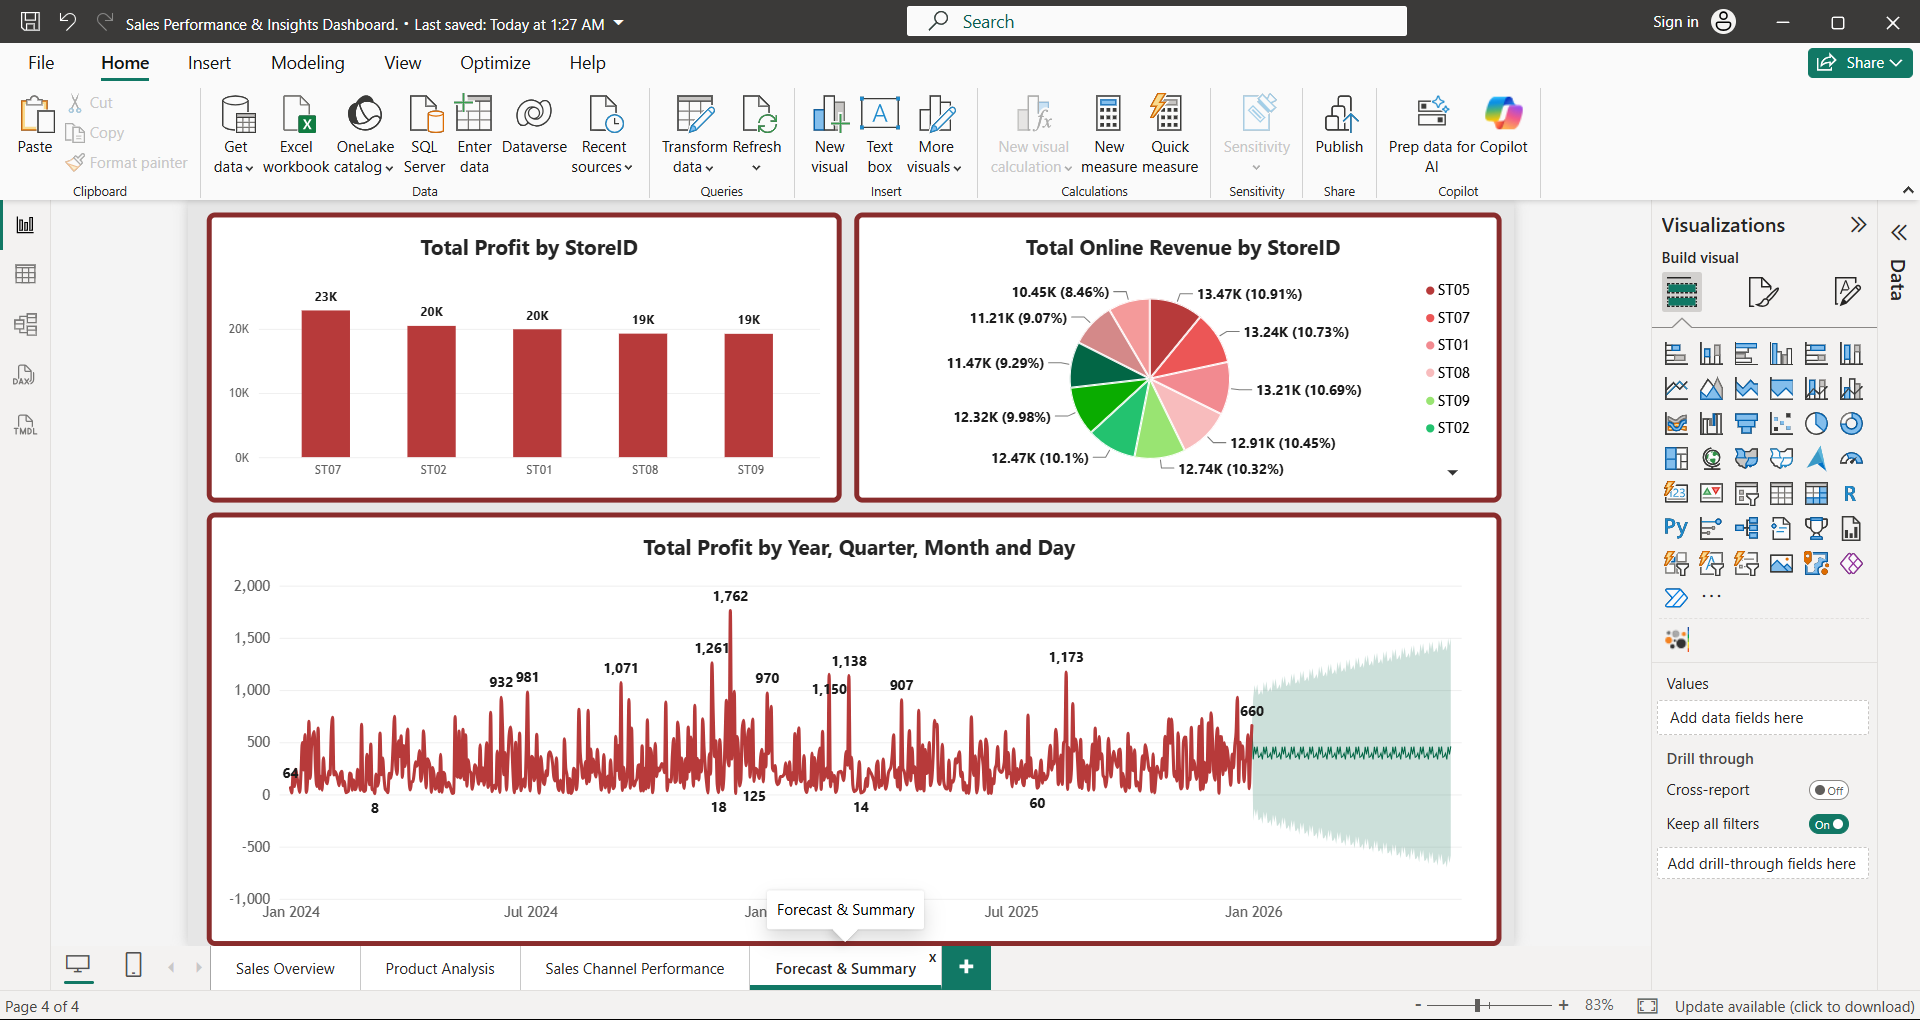

This screenshot's page, from the dashboard's own definition file:
{"tool":"powerbi","page":{"name":"Forecast & Summary","canvas":[1280,720],"ordinal":3},"visuals":[{"type":"clusteredColumnChart","fields":{"Category":["Stores.StoreID"],"Y":["Sales.Total Profit"]},"box":[18.1,12.1,612.9,279.9],"z":0},{"type":"lineChart","fields":{"Category":["DateTable.Date.Variation.Date Hierarchy.Year","DateTable.Date.Variation.Date Hierarchy.Quarter","DateTable.Date.Variation.Date Hierarchy.Month","DateTable.Date.Variation.Date Hierarchy.Day"],"Y":["Sales.Total Profit"]},"box":[18.1,301.6,1249.9,418.6],"z":1000},{"type":"pieChart","fields":{"Category":["Sales.StoreID"],"Y":["Sales.Total Online Revenue"]},"box":[643,12.1,624.9,279.9],"z":2000}]}

Visuals, with their boxes on the page's 1280x720 design canvas (x1, y1, x2, y2). These are canvas units, not pixel positions in the 1920x1020 screenshot, which may show the page scaled, cropped or inside an application window:
clusteredColumnChart - Stores.StoreID x Sales.Total Profit: rect(18, 12, 631, 292)
lineChart - DateTable.Date.Variation.Date Hierarchy.Year x DateTable.Date.Variation.Date Hierarchy.Quarter: rect(18, 302, 1268, 720)
pieChart - Sales.StoreID x Sales.Total Online Revenue: rect(643, 12, 1268, 292)
